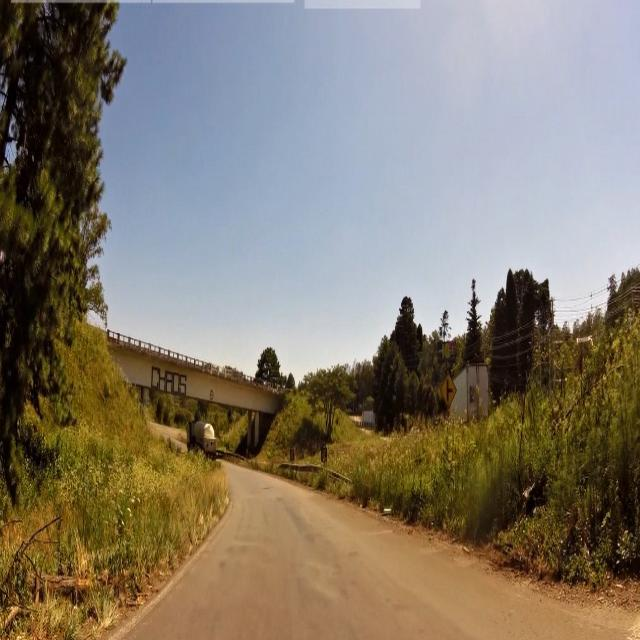A-7b: (441, 372, 456, 410)
